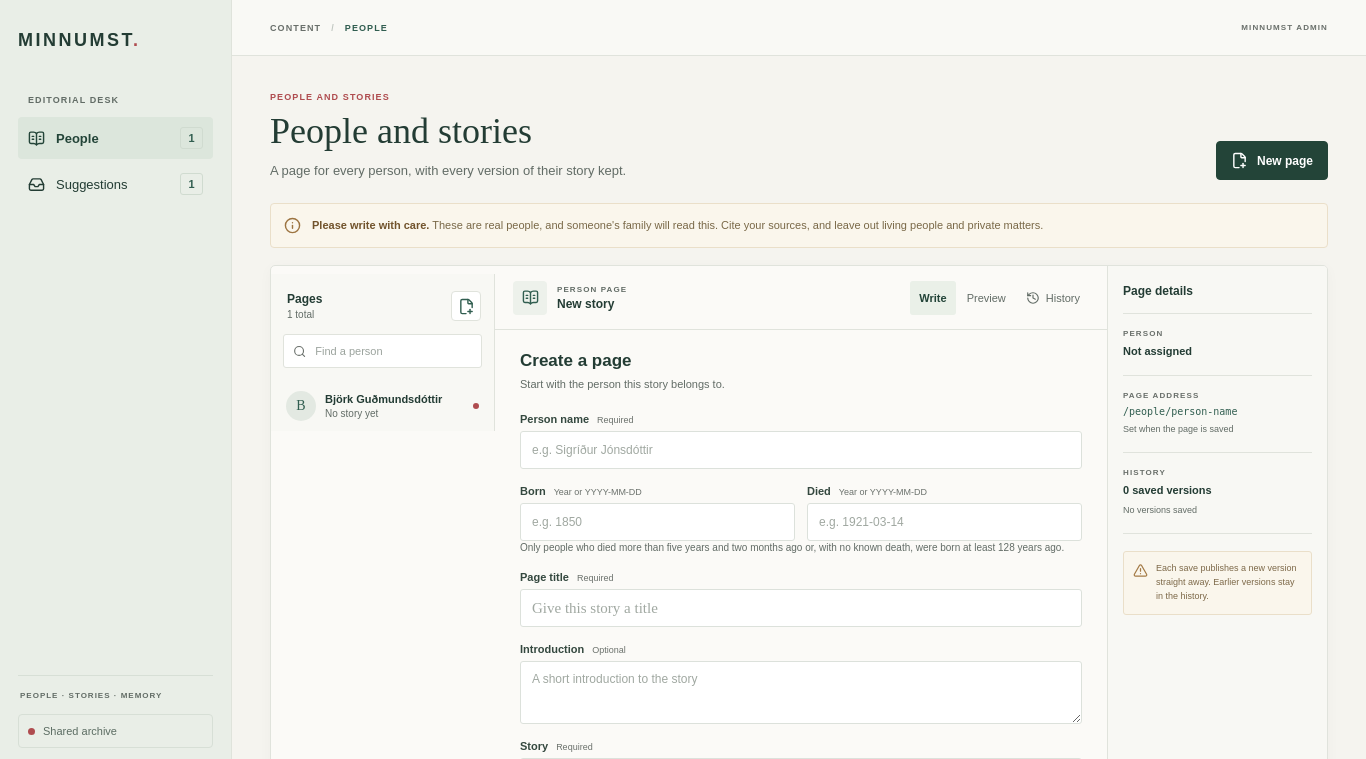
the desk's navigation › shows the waiting count, opens the queue and returns to the pages
Expected: the text "1" next to "Suggestions" is shown, [188, 178, 194, 190]
Click the link "Suggestions 1": point(116, 184) [28, 173, 203, 195]
(page scrolled)
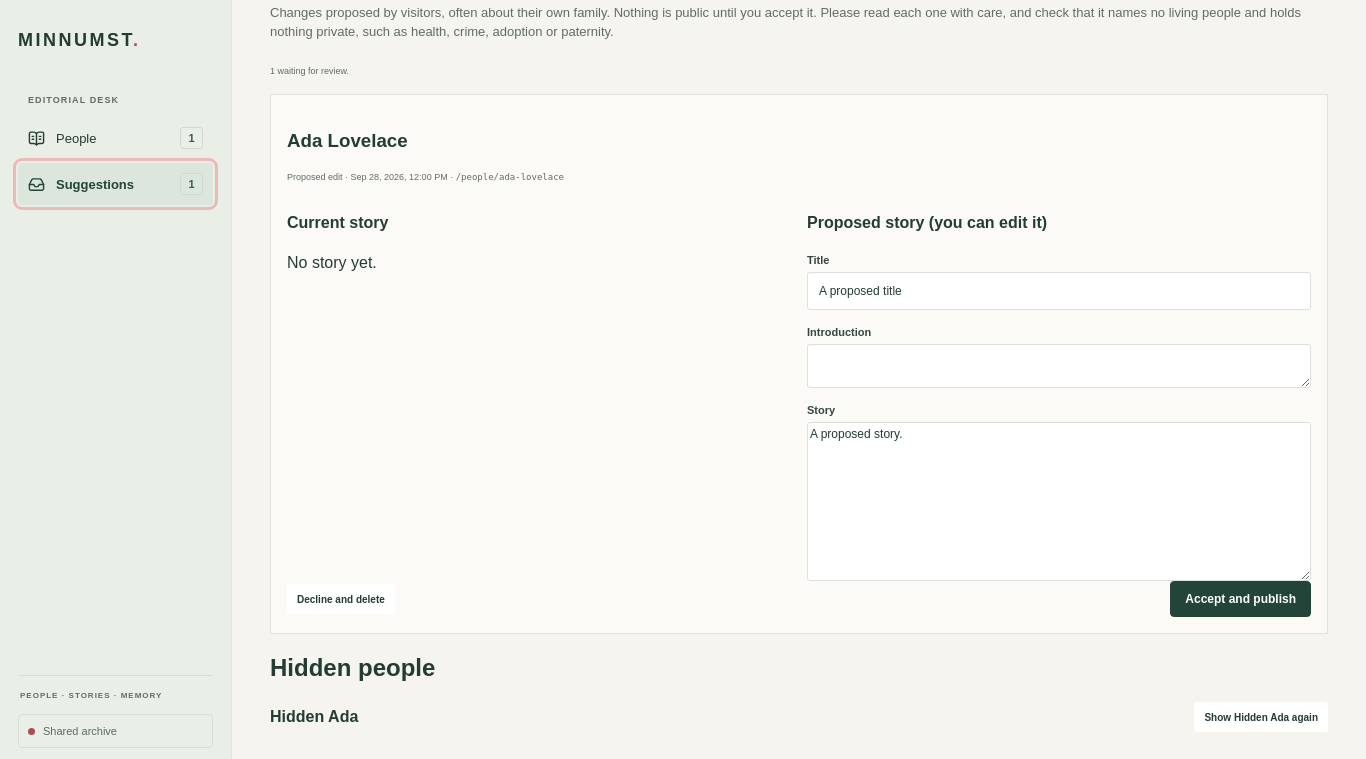
Expected: the text "1 waiting for review." is shown, [270, 66, 349, 76]
Click the button "Show Hidden Ada again": point(1261, 717) [1194, 702, 1328, 732]
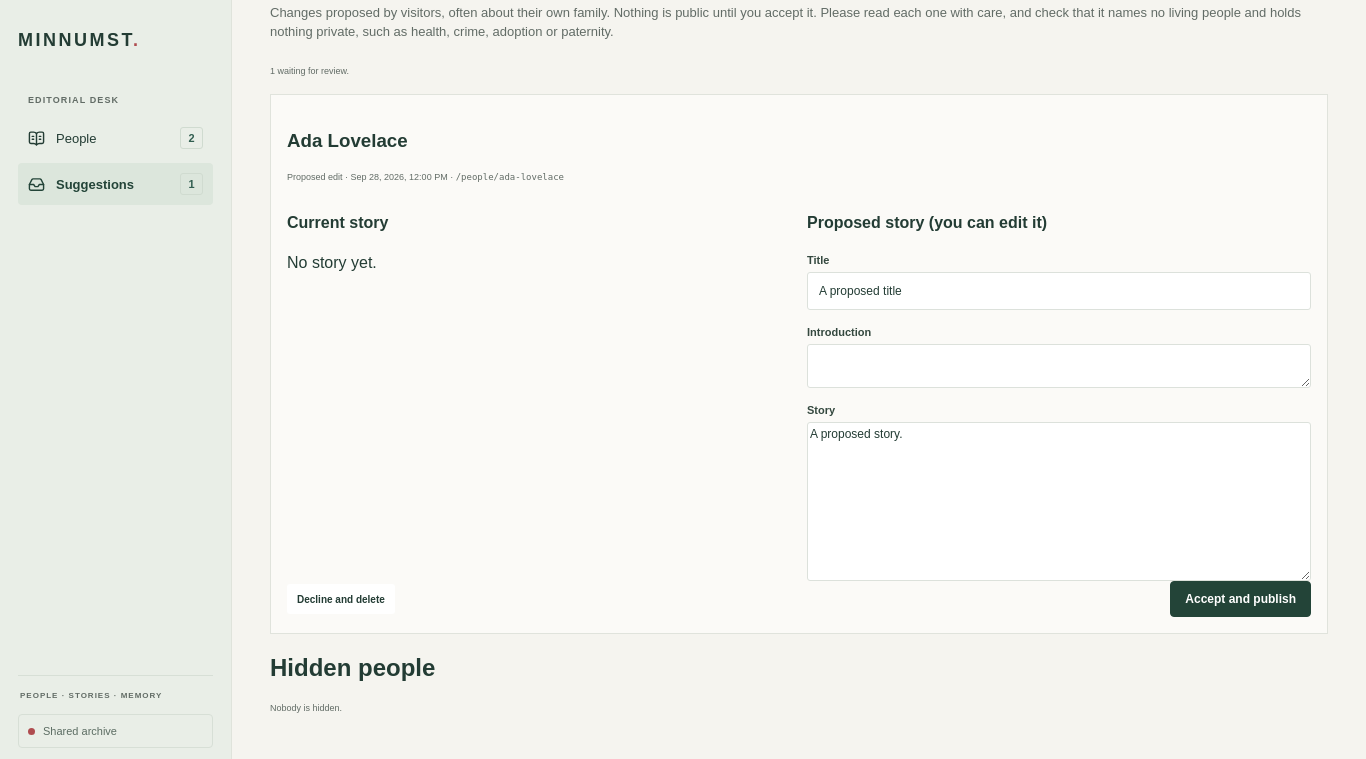
Expected: the text "Nobody is hidden." is shown, [270, 703, 342, 713]
Click the link "People 2": point(76, 138) [28, 127, 203, 149]
(page scrolled)
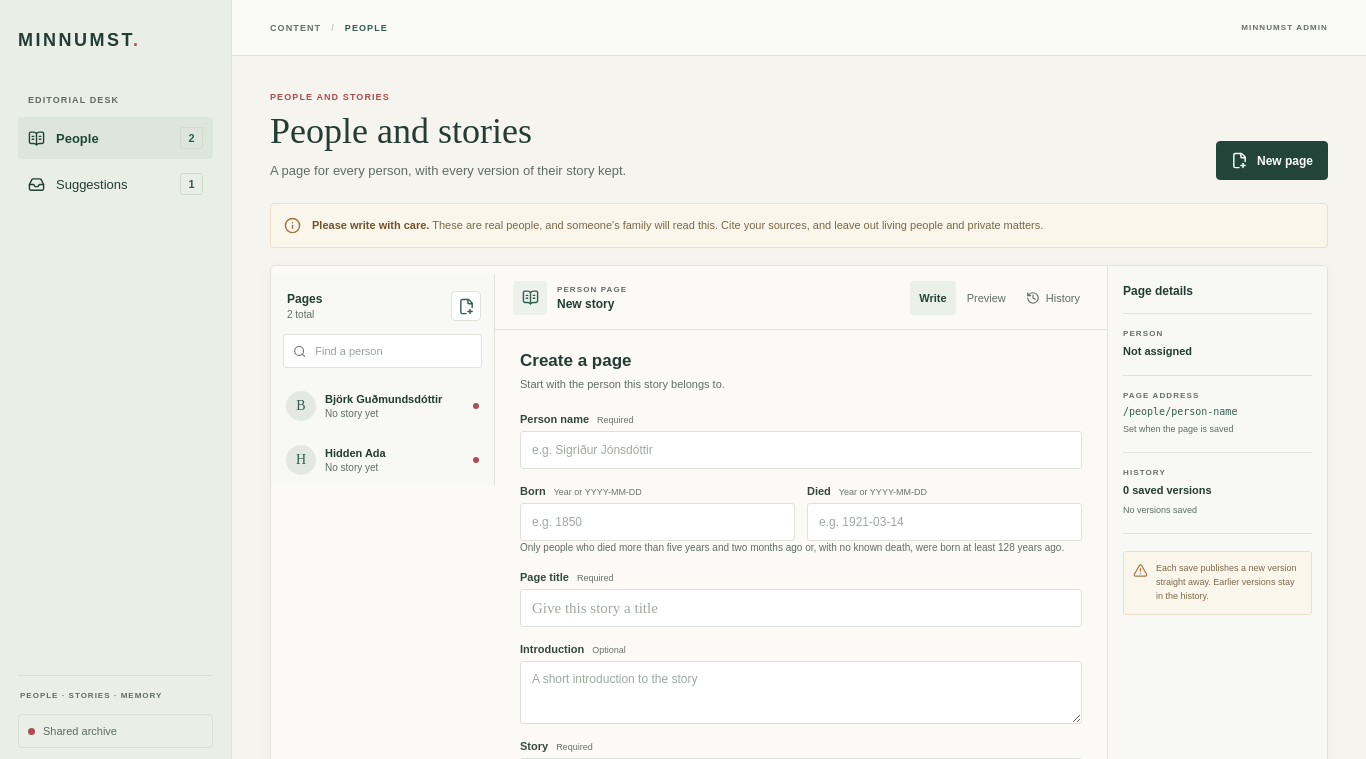
Expected: the text "1 waiting for review." is gone
Expected: the button "H Hidden Ada No story yet" is shown, [278, 434, 487, 485]
